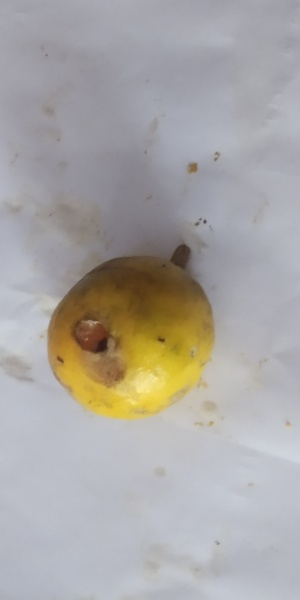BAD: (47, 250, 219, 421)
